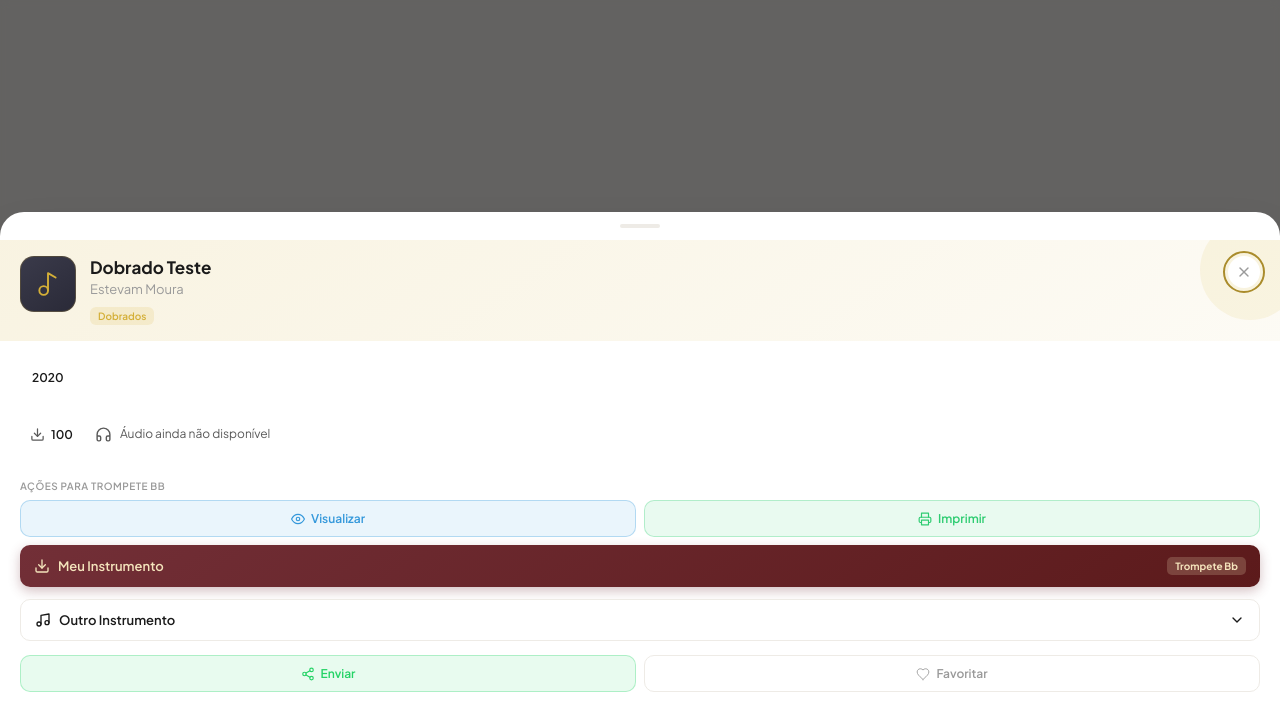
Test: SheetDetailModal › Opcoes de compartilhamento › botao Enviar oferece cópia e link mesmo sem Web Share de arquivos
This screenshot has width=1280, height=720.
Click the button with aria-label "compartilhar partitura" at (328, 674), box [20,655,636,692]
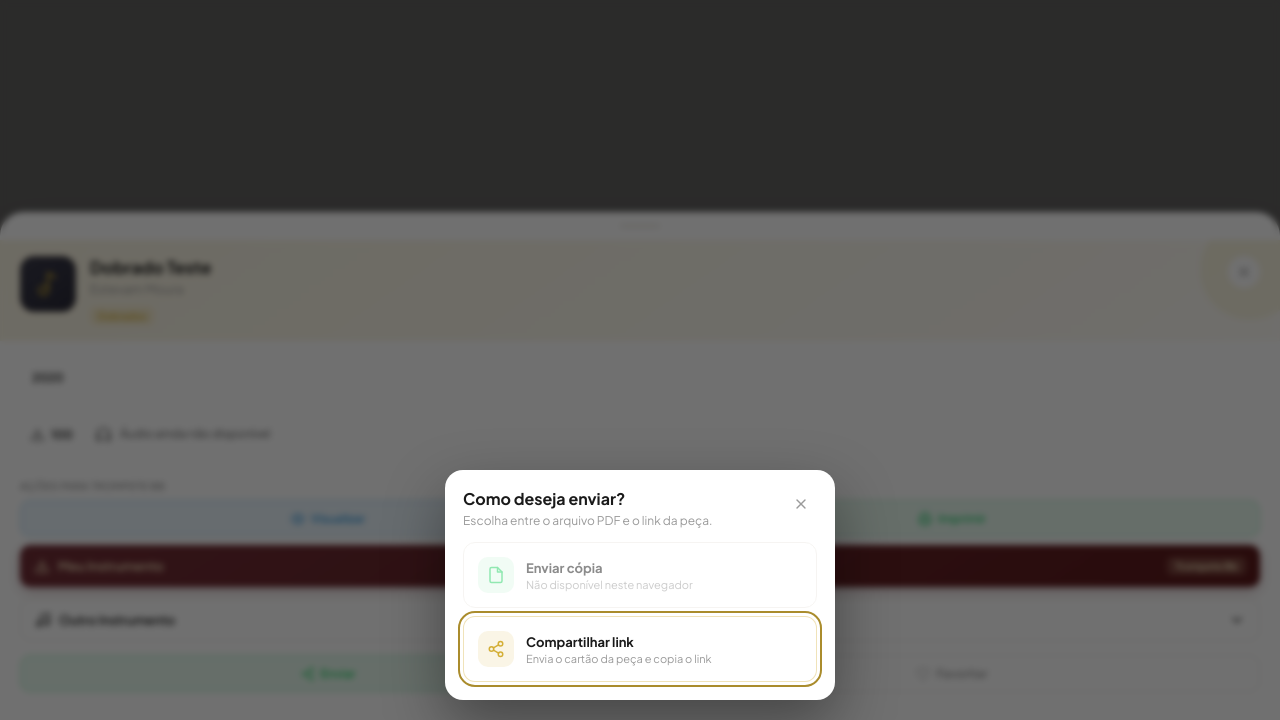
Now the dialog "Como deseja enviar" is shown, box [445,470,835,700]
Now the button "Enviar cópia Não disponível neste navegador" is disabled, box [463,542,817,608]
Now the text "Não disponível neste navegador" is shown, box [526,578,693,590]
